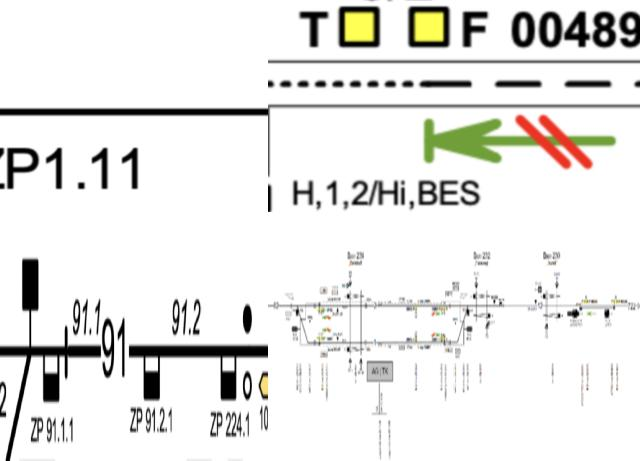mainsignal: (291, 326, 301, 333), (463, 326, 473, 331)
radzaehler: (98, 312, 134, 390), (142, 335, 164, 408), (39, 337, 61, 406), (218, 338, 238, 407), (499, 302, 502, 306), (579, 306, 582, 310)
trackjoint: (448, 303, 452, 310), (313, 303, 316, 310), (313, 340, 316, 345), (364, 340, 367, 345), (365, 302, 367, 308), (290, 304, 292, 309), (449, 340, 451, 345)
tracknumber: (628, 301, 636, 309), (538, 300, 544, 310), (273, 300, 279, 310), (373, 303, 377, 310), (374, 338, 376, 347)
weiche: (18, 247, 41, 359), (466, 305, 469, 316), (296, 305, 298, 316)
